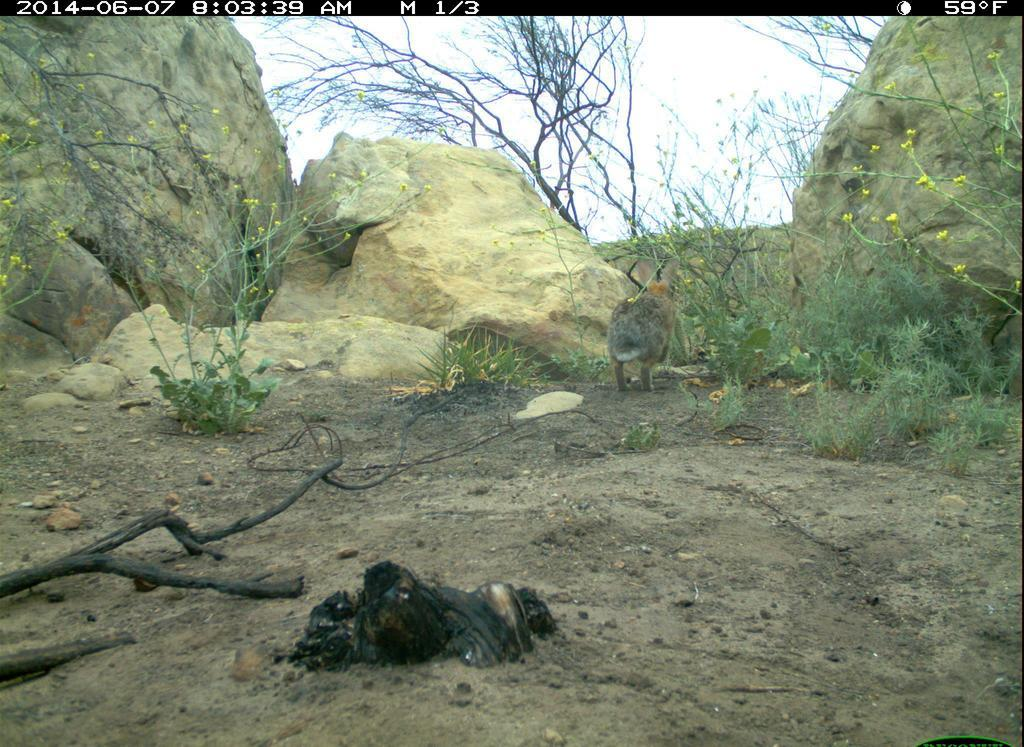rabbit: (595, 269, 695, 398)
